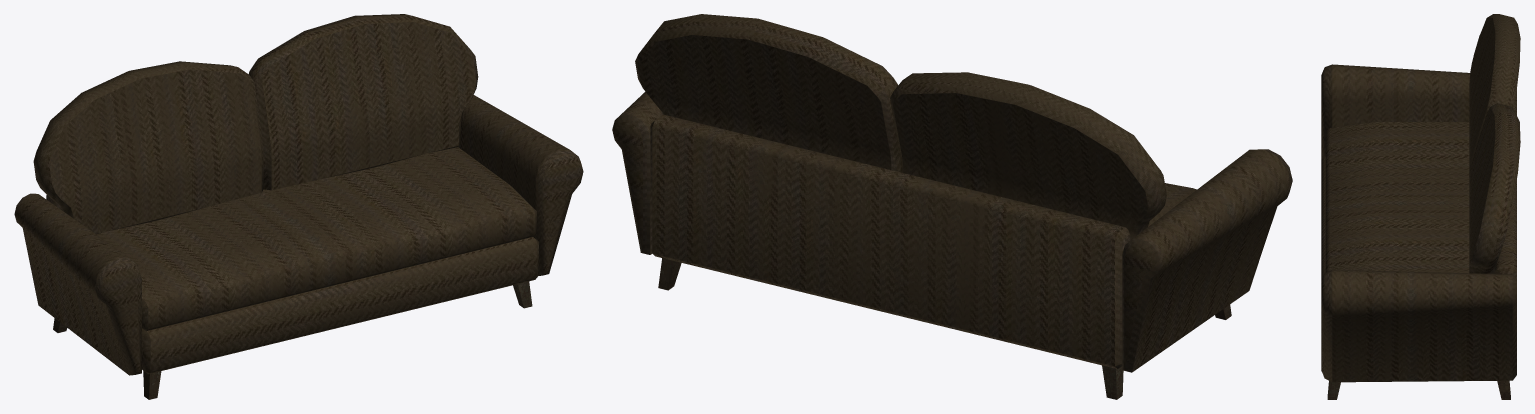
Rendered from sofa_2_2.glb.
The picture shows the model from 3 angles, left to right: view 1: azimuth 30°, elevation 25°; view 2: azimuth 150°, elevation 25°; view 3: azimuth 270°, elevation 25°; orthographic projection. The views are drawn at different scales.
Visible parts, largest first — view 1: sofa_2_2; view 2: sofa_2_2; view 3: sofa_2_2.
Boxes of the visible parts, x1,y1,x2,y2 form: sofa_2_2: [14, 14, 583, 399]; sofa_2_2: [612, 14, 1292, 399]; sofa_2_2: [1321, 14, 1520, 399].
Size of the model in its own units: 2.47 by 1.17 by 0.9157.
Materials: 2 (2 with a texture image).
